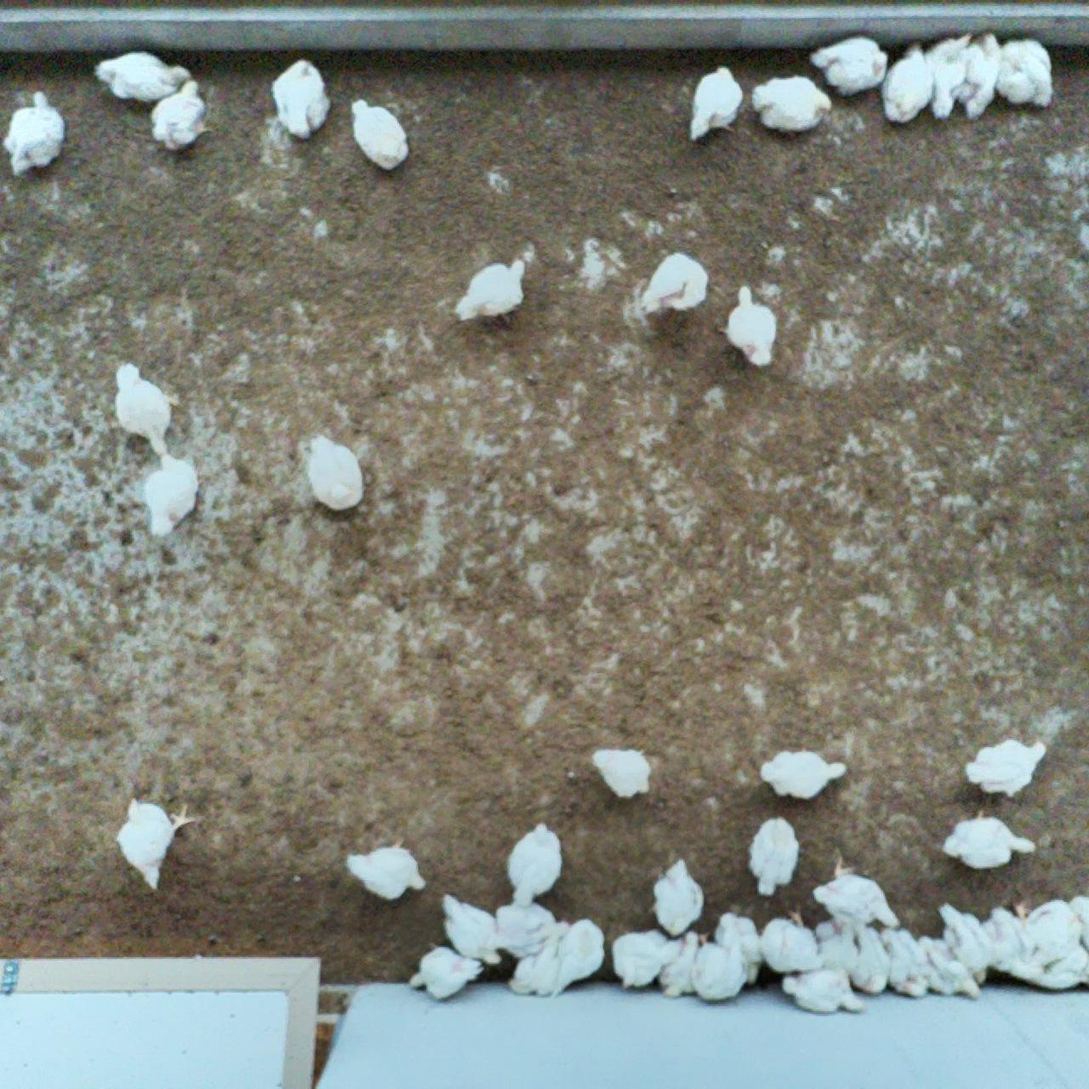chicken: (112, 793, 200, 893), (111, 360, 182, 460), (810, 855, 902, 928), (341, 832, 429, 907), (939, 807, 1037, 873), (0, 87, 70, 177), (91, 47, 196, 104), (962, 733, 1049, 801), (267, 55, 334, 143), (1008, 894, 1089, 966), (504, 819, 568, 910), (750, 74, 835, 141), (303, 430, 369, 516), (452, 256, 530, 328), (143, 451, 204, 543), (715, 284, 780, 370), (982, 899, 1047, 984), (809, 32, 889, 100), (146, 76, 215, 154), (437, 892, 505, 969), (646, 855, 708, 938), (778, 963, 866, 1021), (744, 813, 804, 898), (758, 747, 848, 803), (406, 939, 484, 1003), (492, 897, 571, 960), (348, 95, 411, 173), (686, 62, 746, 143), (953, 30, 1006, 120), (642, 249, 713, 316), (612, 927, 684, 993), (924, 29, 975, 122), (880, 41, 936, 125), (913, 935, 984, 1001), (933, 899, 988, 983), (995, 36, 1056, 108), (711, 907, 764, 989), (762, 904, 822, 974), (503, 935, 566, 999), (881, 924, 932, 1002), (693, 935, 749, 1005), (588, 745, 656, 800), (559, 916, 611, 985), (657, 929, 706, 999), (851, 921, 893, 1000), (810, 912, 861, 974), (1035, 939, 1089, 993)
